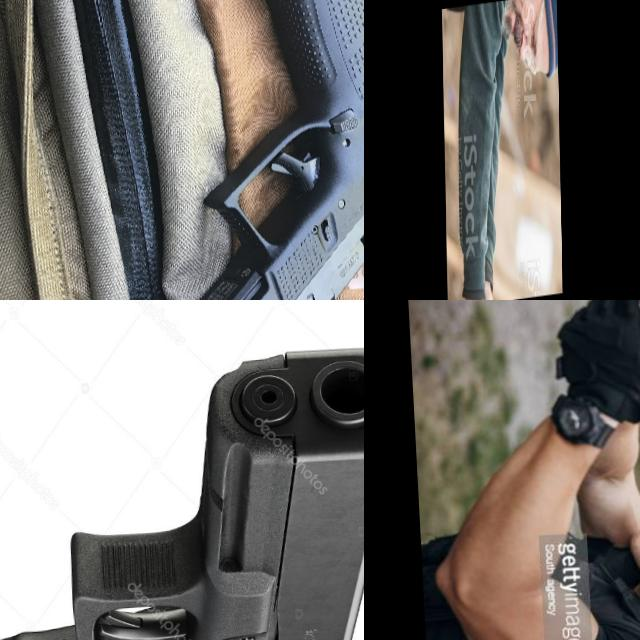handgun: (0, 340, 364, 640), (105, 0, 364, 300), (545, 300, 640, 396)
